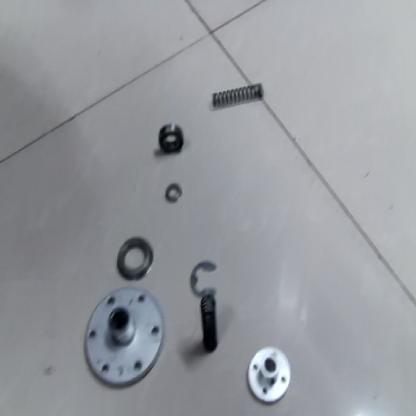FOD: (80, 286, 167, 391), (244, 345, 293, 408), (111, 234, 157, 283), (206, 79, 267, 113), (196, 286, 219, 358), (188, 257, 223, 298), (155, 119, 186, 160), (162, 178, 186, 207)
